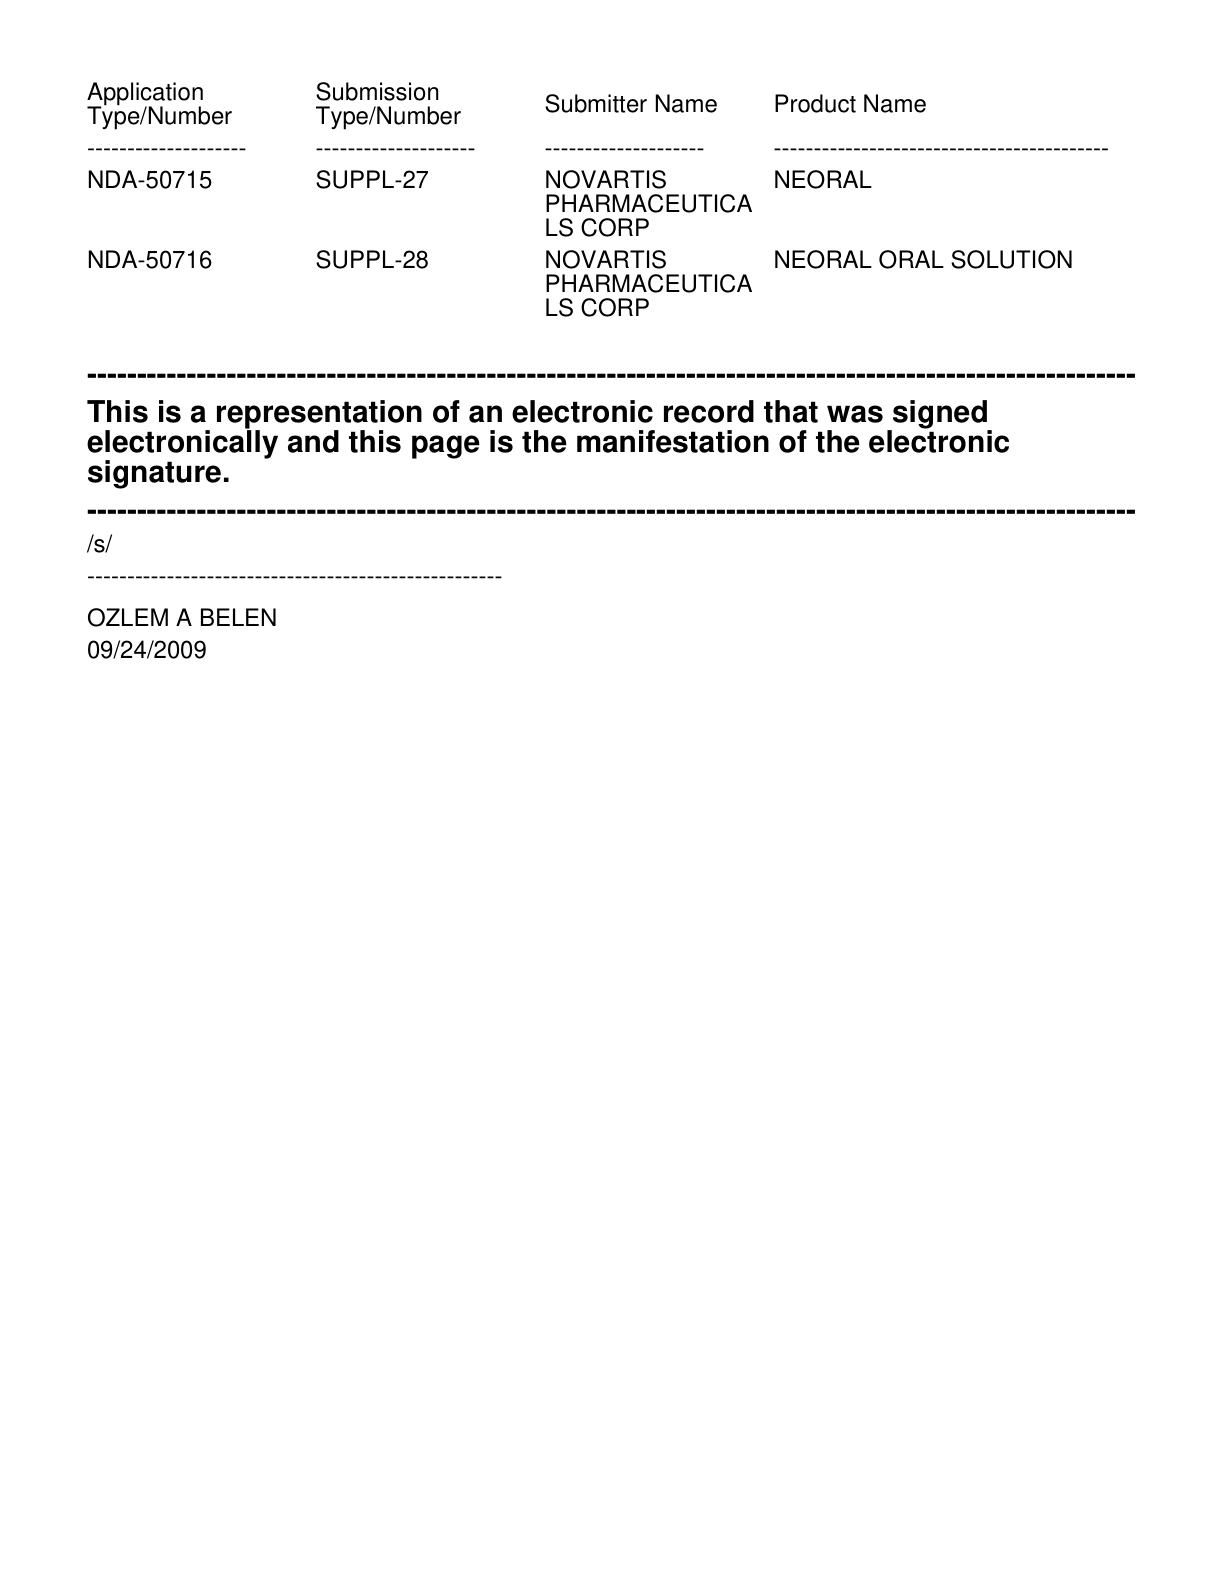nolines: (85, 80, 1113, 323)
